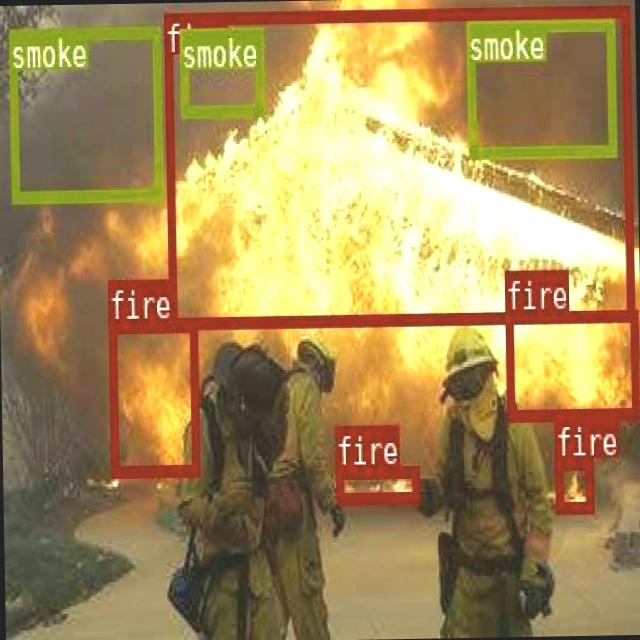fire: (162, 4, 632, 326), (504, 307, 638, 418), (108, 317, 198, 475), (334, 464, 418, 500), (554, 456, 592, 511)
smoke: (7, 24, 162, 201), (465, 17, 615, 156), (177, 26, 263, 114)
